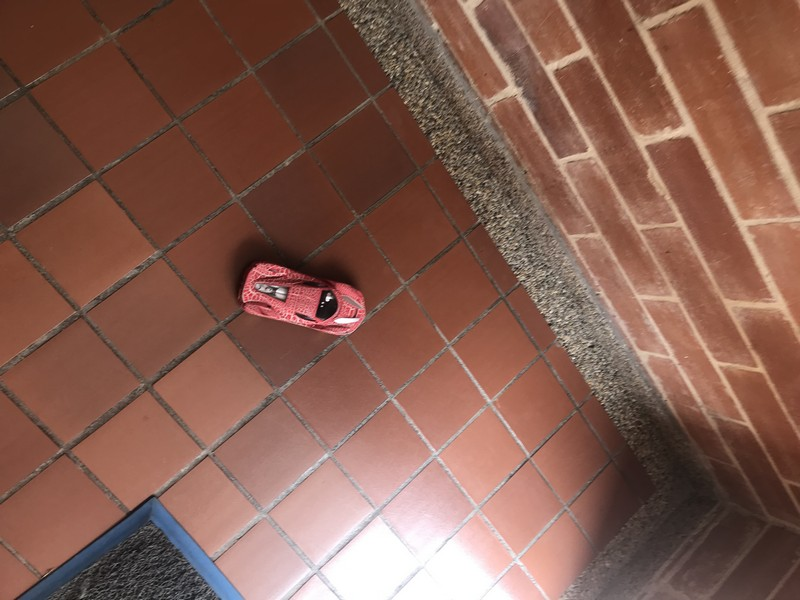RC: (237, 261, 367, 338)
